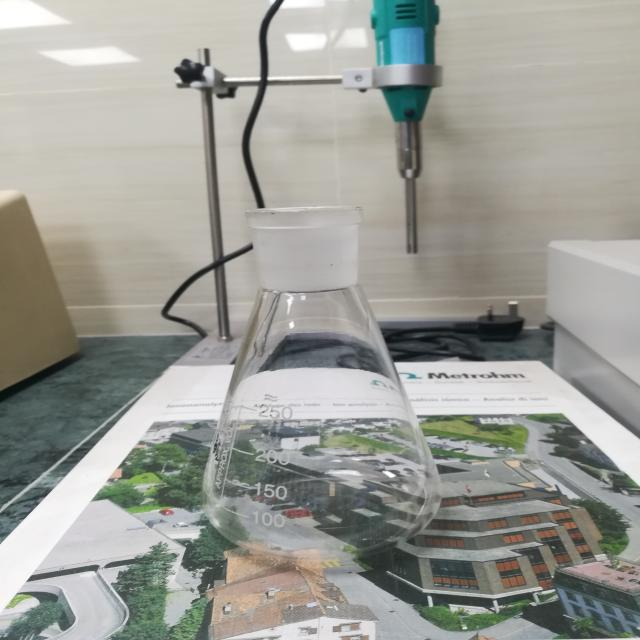Conical_Flask: (168, 182, 478, 584)
